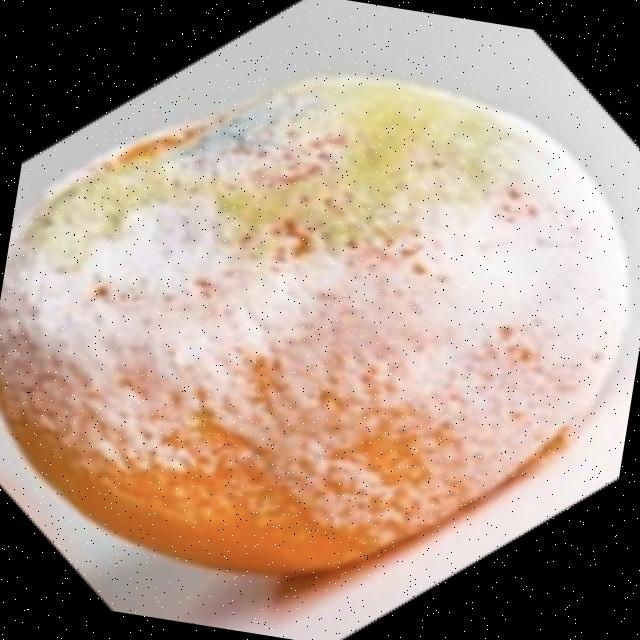Rotten: (0, 20, 640, 626)
